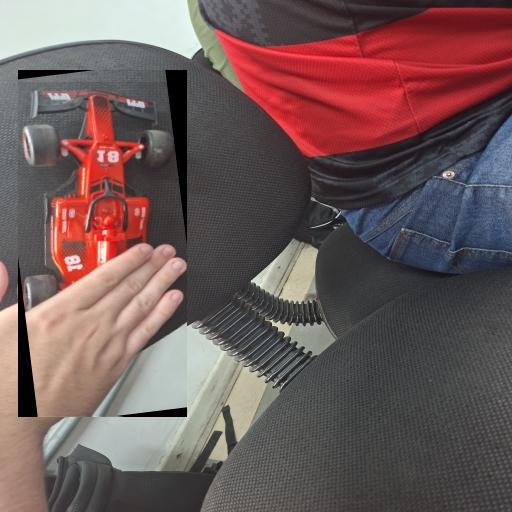carro: (18, 83, 187, 416)
